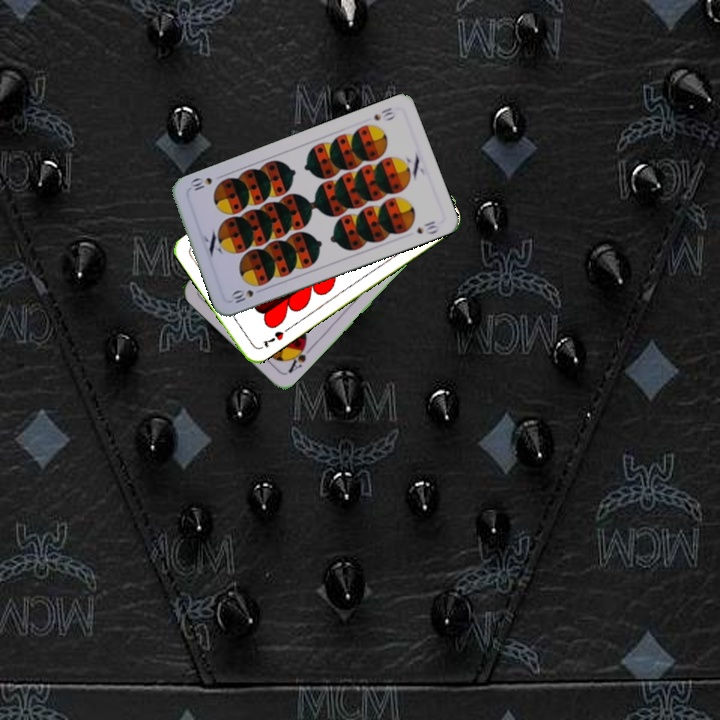H7: (258, 327, 287, 350)
S10: (227, 284, 266, 306), (369, 103, 398, 123)
SA: (284, 339, 309, 376)
